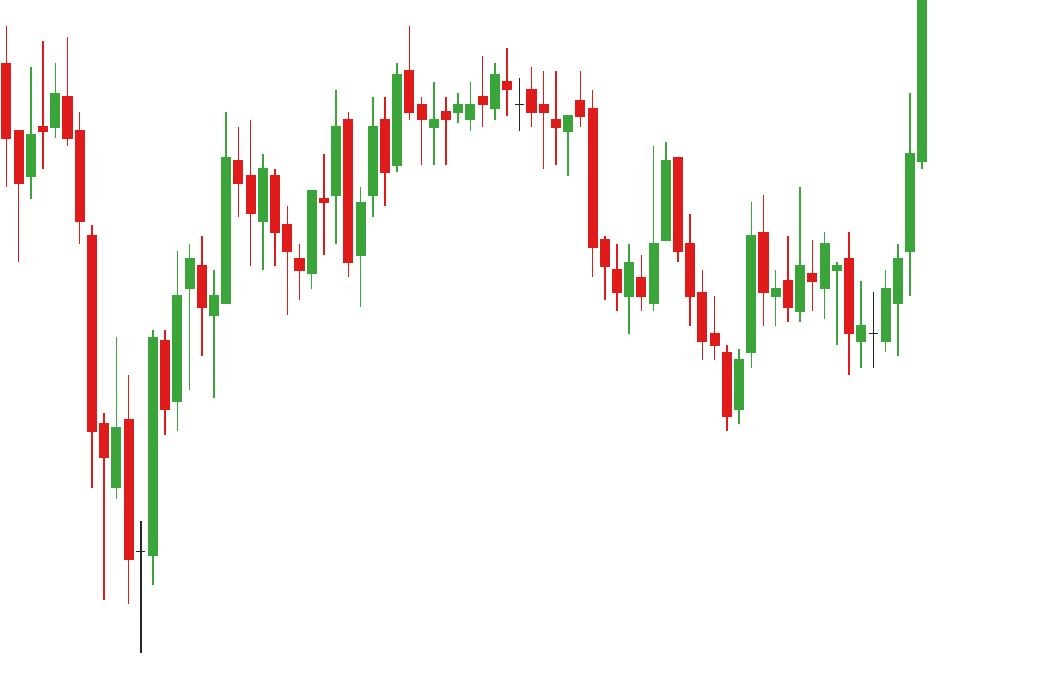buy: (621, 239, 756, 433)
